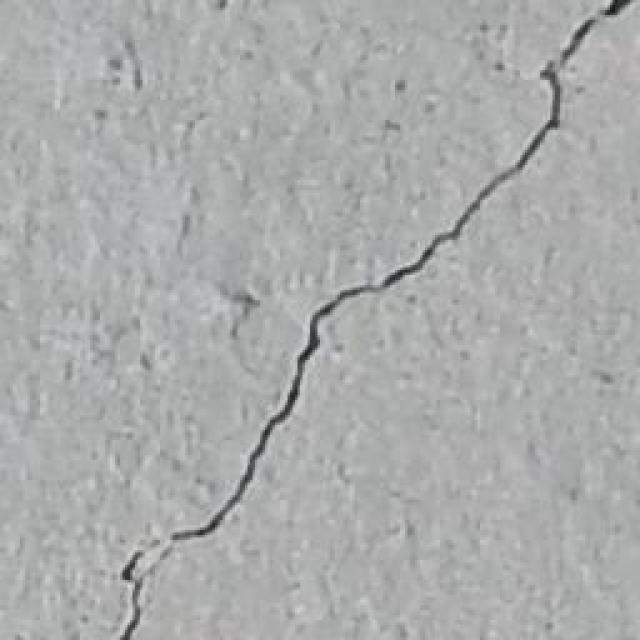concrete-crack: (123, 4, 631, 638)
